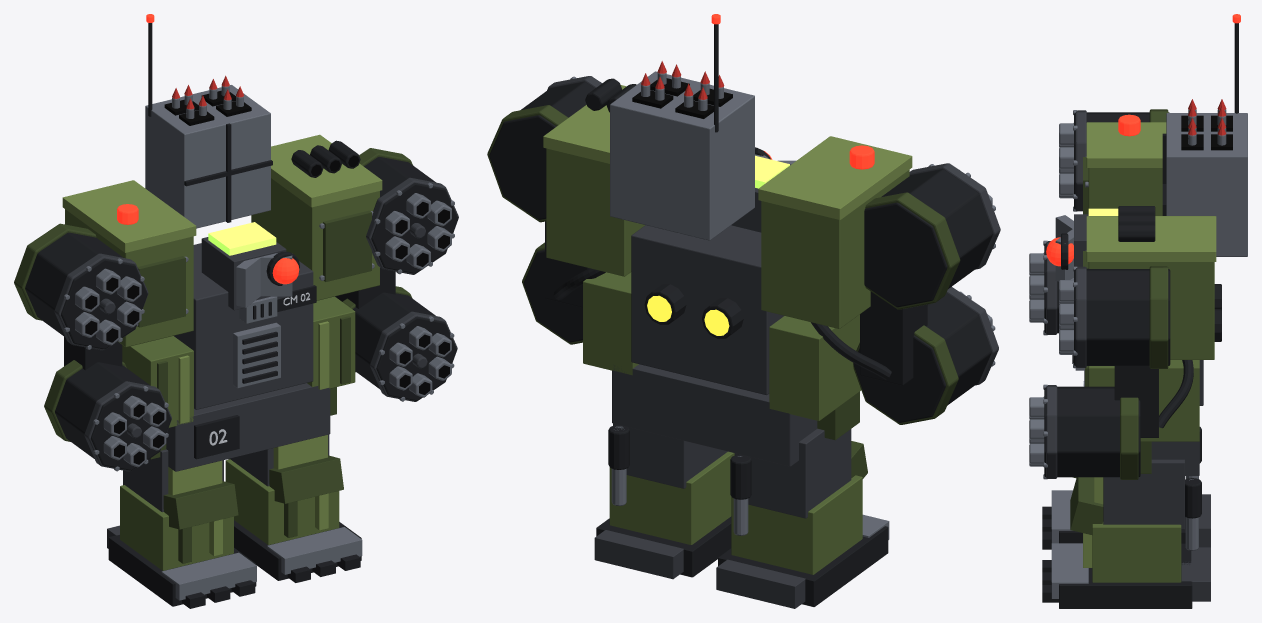
File: eradicator-mk2.glb
3 renders of one model, left to right at view 1: azimuth 30°, elevation 25°; view 2: azimuth 150°, elevation 25°; view 3: azimuth 270°, elevation 25°, orthographic. The views are drawn at different scales.
Visible parts, largest first — view 1: Eradicator MK II; view 2: Eradicator MK II; view 3: Eradicator MK II.
Part boxes in pixels (left/top/right/bottom): Eradicator MK II: left=14, top=14, right=458, bottom=608; Eradicator MK II: left=487, top=14, right=1000, bottom=608; Eradicator MK II: left=1029, top=14, right=1247, bottom=608.
Bounding box in the file's own units: 1.68 × 2.05 × 0.7683.
